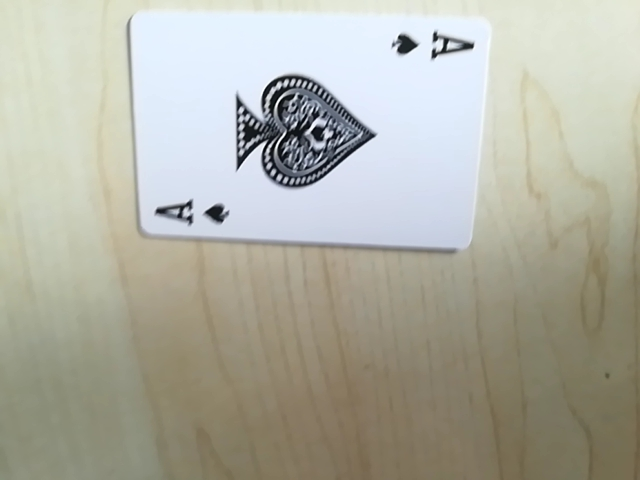ht a: (388, 22, 477, 69), (150, 193, 234, 232)
